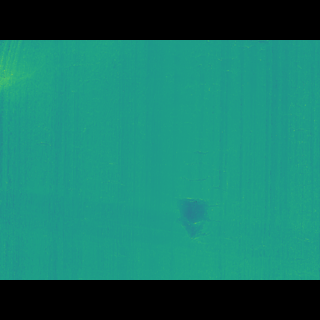Loch: (168, 181, 228, 221)
